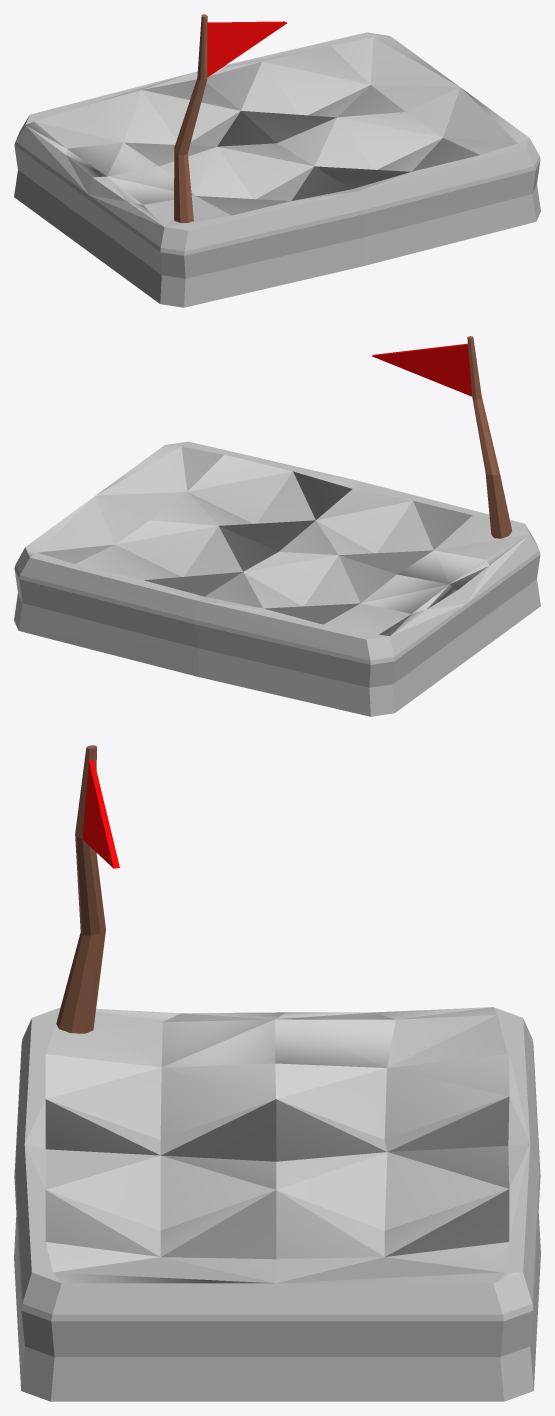
File: CheckpointActivated.fbx
3 views of the same model, one above another, from view 1: azimuth 30°, elevation 25°; view 2: azimuth 150°, elevation 25°; view 3: azimuth 270°, elevation 25° (orthographic). The views are drawn at different scales.
Visible parts, largest first — view 1: Checkpoint; view 2: Checkpoint; view 3: Checkpoint.
Part boxes in pixels (x1,y1,x2,y2): Checkpoint: (14,14,540,307); Checkpoint: (14,336,540,716); Checkpoint: (14,745,540,1401).
Size of the model in its own units: 267 by 178 by 207.
